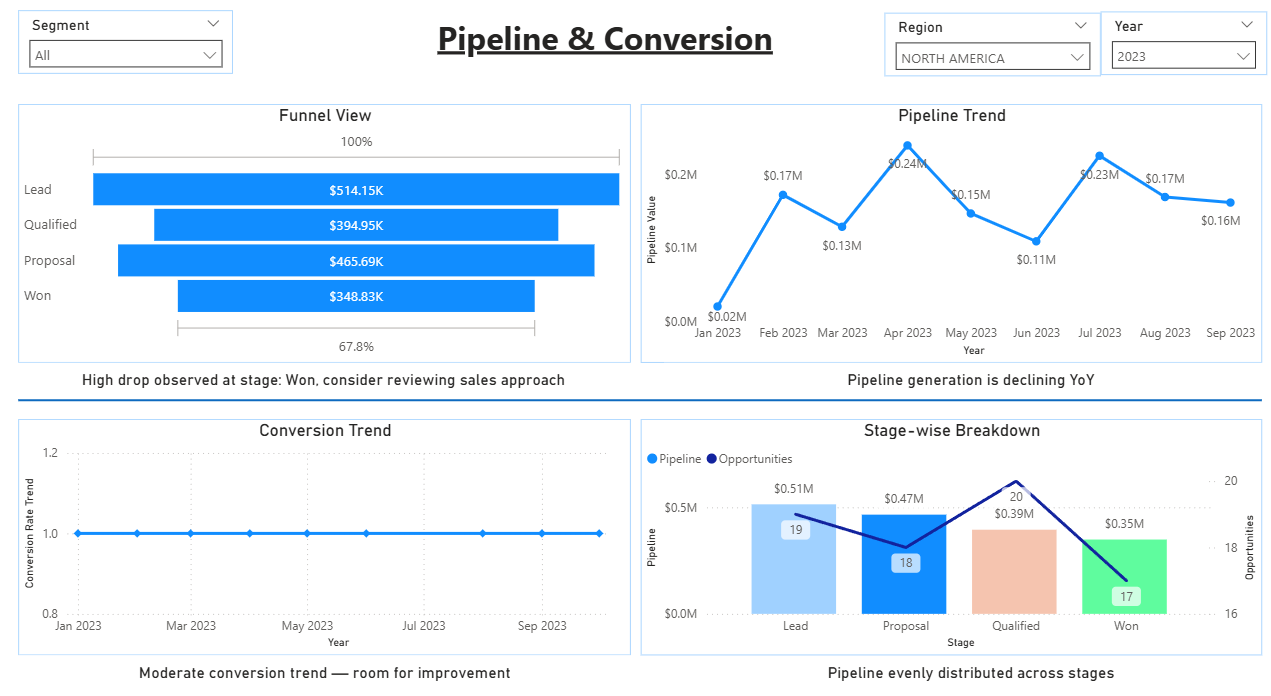

The page's visual inventory and layout, read from the dashboard file:
{"tool":"powerbi","page":{"name":"Pipeline & Conversion","canvas":[1280,720],"ordinal":1},"visuals":[{"type":"textbox","box":[411.8,21.1,396.8,59.7],"z":0},{"type":"slicer","fields":{"Values":["Customer Master.Standardized Region"]},"box":[888.2,23.6,215.2,63.4],"z":1000},{"type":"slicer","fields":{"Values":["Customers.Segment"]},"box":[26.1,21.1,214,63.4],"z":2000},{"type":"funnel","title":"Funnel View","fields":{"Category":["Opportunities.Stage"],"Y":["Executive Summary Measures.Total Pipeline"]},"box":[26.1,114.4,609.5,257.5],"z":3000},{"type":"lineChart","title":"Pipeline Trend","fields":{"Y":["Pipeline vs Conversion Measures.Pipeline Value"],"Category":["Date.Full Date.Variation.Date Hierarchy.Year","Date.Full Date.Variation.Date Hierarchy.Month"]},"box":[645.6,114.4,618.2,257.5],"z":4000},{"type":"lineChart","title":"Conversion Trend","fields":{"Y":["Pipeline vs Conversion Measures.Conversion Rate Trend"],"Category":["Date.Full Date.Variation.Date Hierarchy.Year","Date.Full Date.Variation.Date Hierarchy.Month"]},"box":[26.1,427.9,609.5,235.1],"z":5000},{"type":"lineStackedColumnComboChart","title":"Stage-wise Breakdown","fields":{"Category":["Opportunities.Stage"],"Y":["Executive Summary Measures.Total Pipeline"],"Y2":["Executive Summary Measures.Total Opportunities"]},"box":[645.6,427.9,618.2,235.1],"z":6000},{"type":"slicer","fields":{"Values":["Date.Year"]},"box":[1103.4,22.4,165.4,63.4],"z":7000},{"type":"card","fields":{"Values":["Pipeline vs Conversion Measures.Conversion Trend Insight"]},"box":[26.1,663,610.8,36.1],"z":8000},{"type":"card","fields":{"Values":["Pipeline vs Conversion Measures.Stage Insight"]},"box":[669.3,664.3,610.8,34.8],"z":9000},{"type":"card","fields":{"Values":["Pipeline vs Conversion Measures.Funnel Insight"]},"box":[24.9,371.9,610.8,36.1],"z":10000},{"type":"card","fields":{"Values":["Pipeline vs Conversion Measures.Pipeline Trend Insight"]},"box":[669.3,371.9,610.8,36.1],"z":11000},{"type":"shape","box":[26.1,390.6,1237.7,37.3],"z":12000}]}

Visuals, with their boxes in screenshot pixels (x1, y1, x2, y2), scaled from the page's 1280x720 canvas onto the 1271x696 screenshot:
textbox: {"x1": 409, "y1": 20, "x2": 803, "y2": 78}
slicer - Customer Master.Standardized Region: {"x1": 882, "y1": 23, "x2": 1096, "y2": 84}
slicer - Customers.Segment: {"x1": 26, "y1": 20, "x2": 238, "y2": 82}
"Funnel View" funnel: {"x1": 26, "y1": 111, "x2": 631, "y2": 360}
"Pipeline Trend" lineChart: {"x1": 641, "y1": 111, "x2": 1255, "y2": 360}
"Conversion Trend" lineChart: {"x1": 26, "y1": 414, "x2": 631, "y2": 641}
"Stage-wise Breakdown" lineStackedColumnComboChart: {"x1": 641, "y1": 414, "x2": 1255, "y2": 641}
slicer - Date.Year: {"x1": 1096, "y1": 22, "x2": 1260, "y2": 83}
card - Pipeline vs Conversion Measures.Conversion Trend Insight: {"x1": 26, "y1": 641, "x2": 632, "y2": 676}
card - Pipeline vs Conversion Measures.Stage Insight: {"x1": 665, "y1": 642, "x2": 1270, "y2": 676}
card - Pipeline vs Conversion Measures.Funnel Insight: {"x1": 25, "y1": 360, "x2": 631, "y2": 394}
card - Pipeline vs Conversion Measures.Pipeline Trend Insight: {"x1": 665, "y1": 360, "x2": 1270, "y2": 394}
shape: {"x1": 26, "y1": 378, "x2": 1255, "y2": 414}
